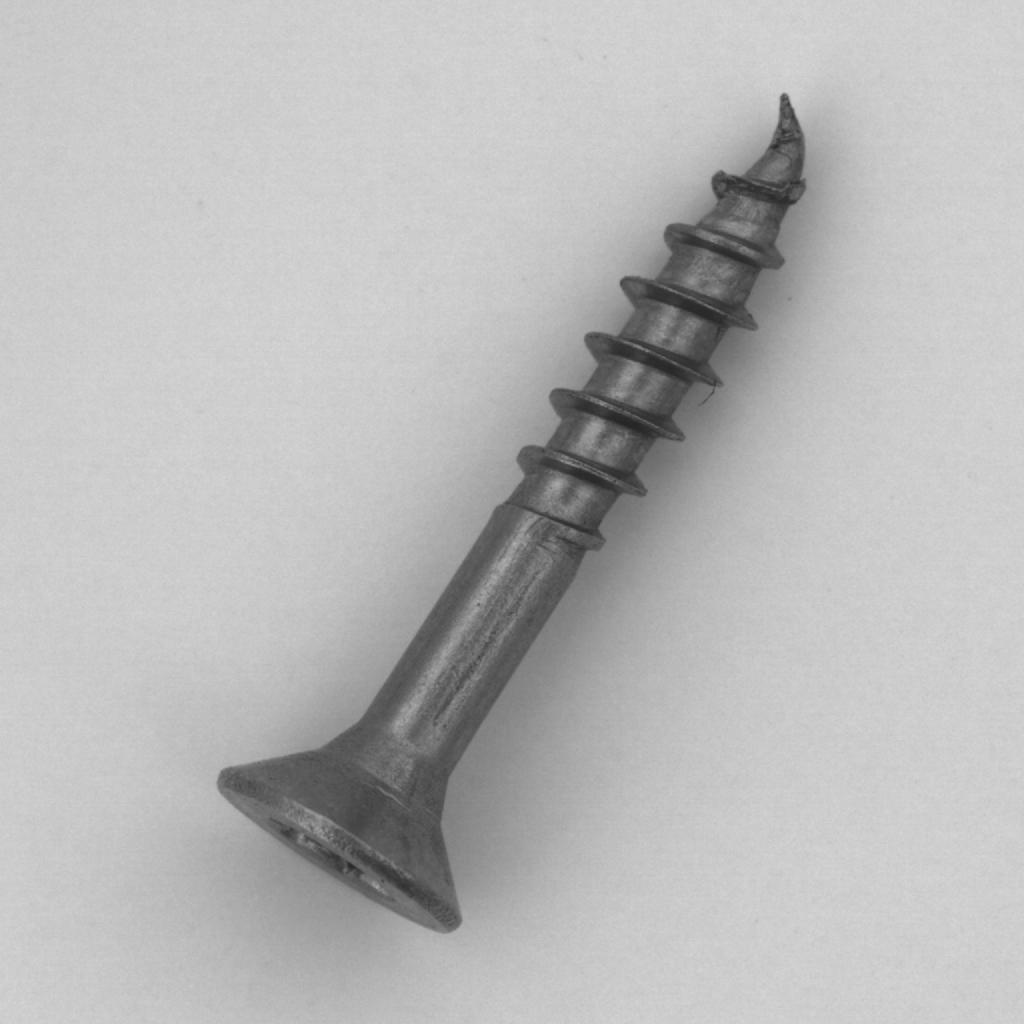bad: (185, 66, 862, 966)
